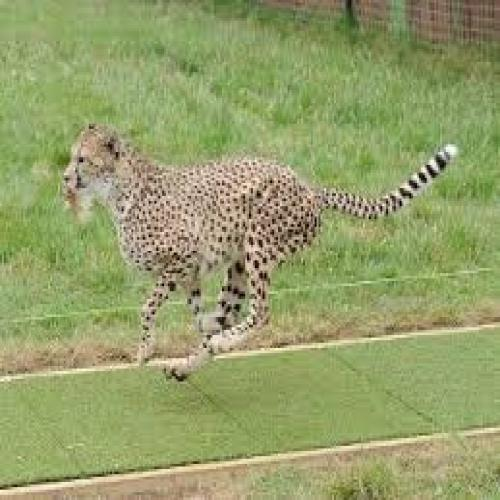cheetah-endangered: (64, 123, 458, 383)
